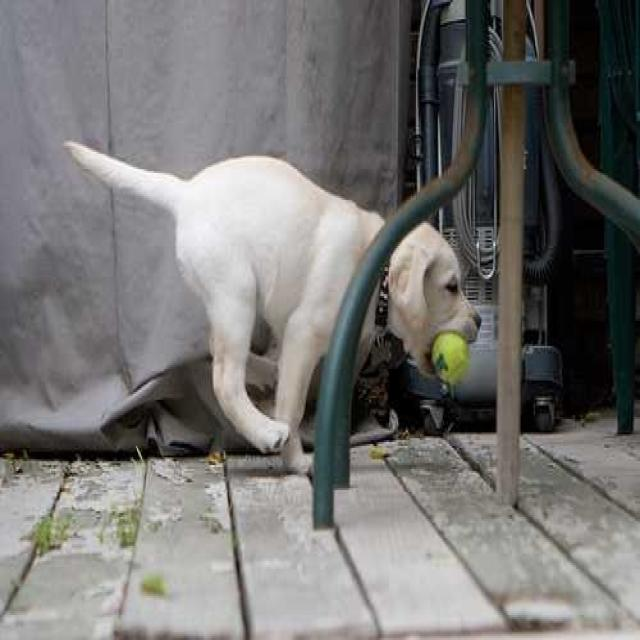Tennis_Ball: (433, 330, 468, 383)
